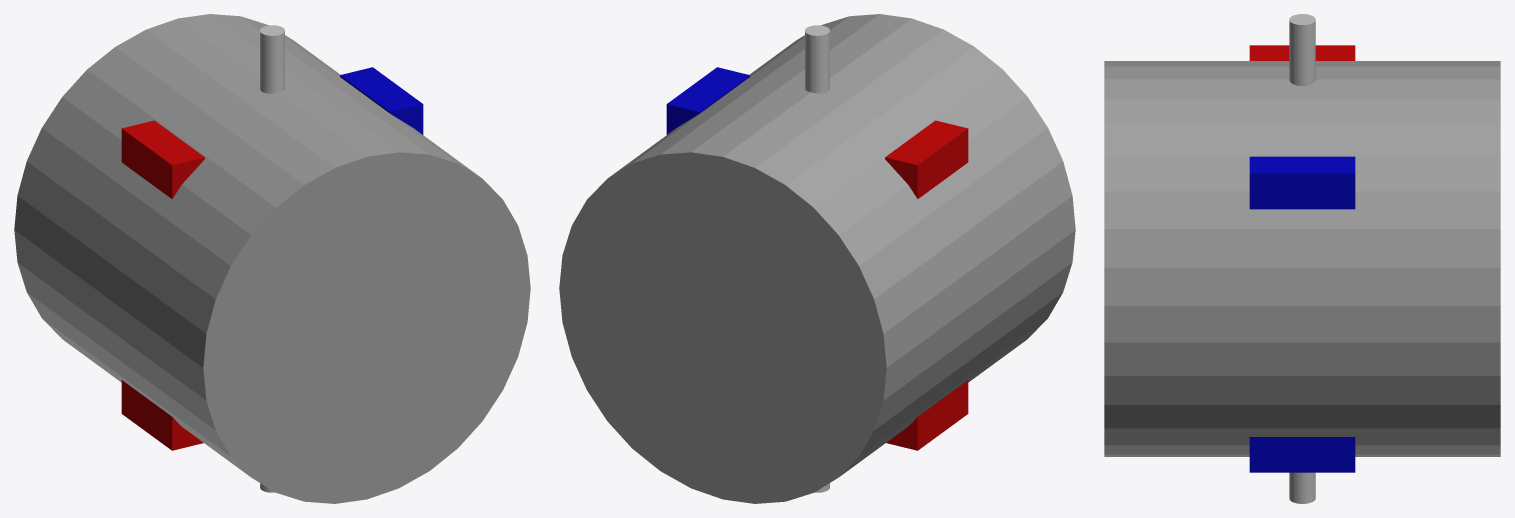
The model's file is electric_motor.glb.
The picture shows the model from 3 angles, left to right: view 1: azimuth 30°, elevation 25°; view 2: azimuth 150°, elevation 25°; view 3: azimuth 270°, elevation 25°; orthographic projection. The views are drawn at different scales.
Parts seen in each view (by area): view 1: world; view 2: world; view 3: world.
Boxes of the visible parts, x1=… form: world: x1=14, y1=14, x2=530, y2=503; world: x1=559, y1=14, x2=1075, y2=503; world: x1=1104, y1=14, x2=1500, y2=503.
Size of the model in its own units: 3 by 4 by 3.
